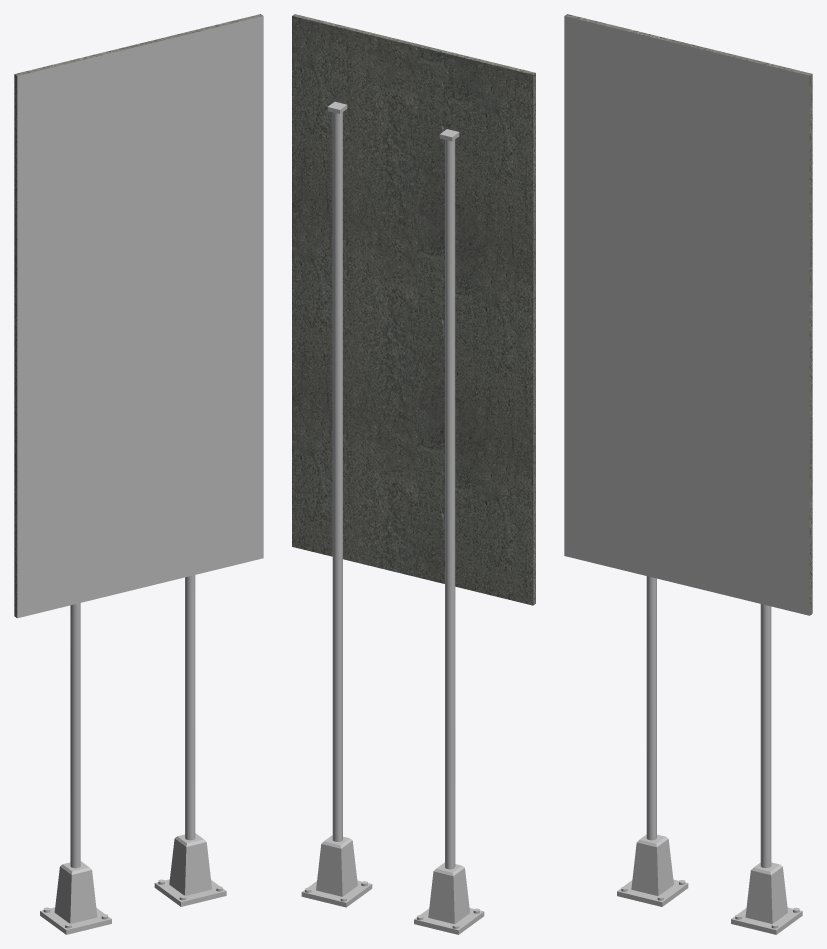
The model's file is DT_Sign_post_type0303.fbx.
The picture shows the model from 3 angles, left to right: view 1: azimuth 30°, elevation 25°; view 2: azimuth 150°, elevation 25°; view 3: azimuth 330°, elevation 25°; orthographic projection. The views are drawn at different scales.
Visible parts, largest first — view 1: DT_Sign_post_type0303; view 2: DT_Sign_post_type0303; view 3: DT_Sign_post_type0303.
Boxes of the visible parts, bbox=[...] form: DT_Sign_post_type0303: bbox=[14, 14, 263, 934]; DT_Sign_post_type0303: bbox=[292, 14, 535, 934]; DT_Sign_post_type0303: bbox=[564, 14, 812, 934].
Size of the model in its own units: 130 by 441 by 25.66.
